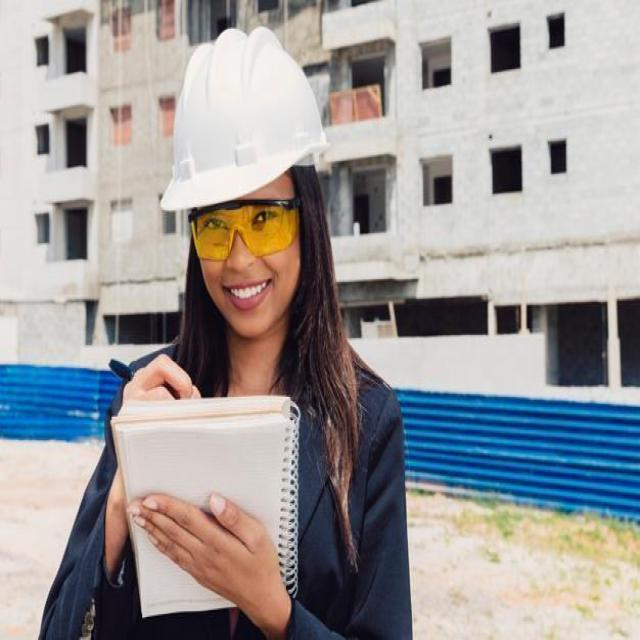hat: (160, 25, 330, 212)
